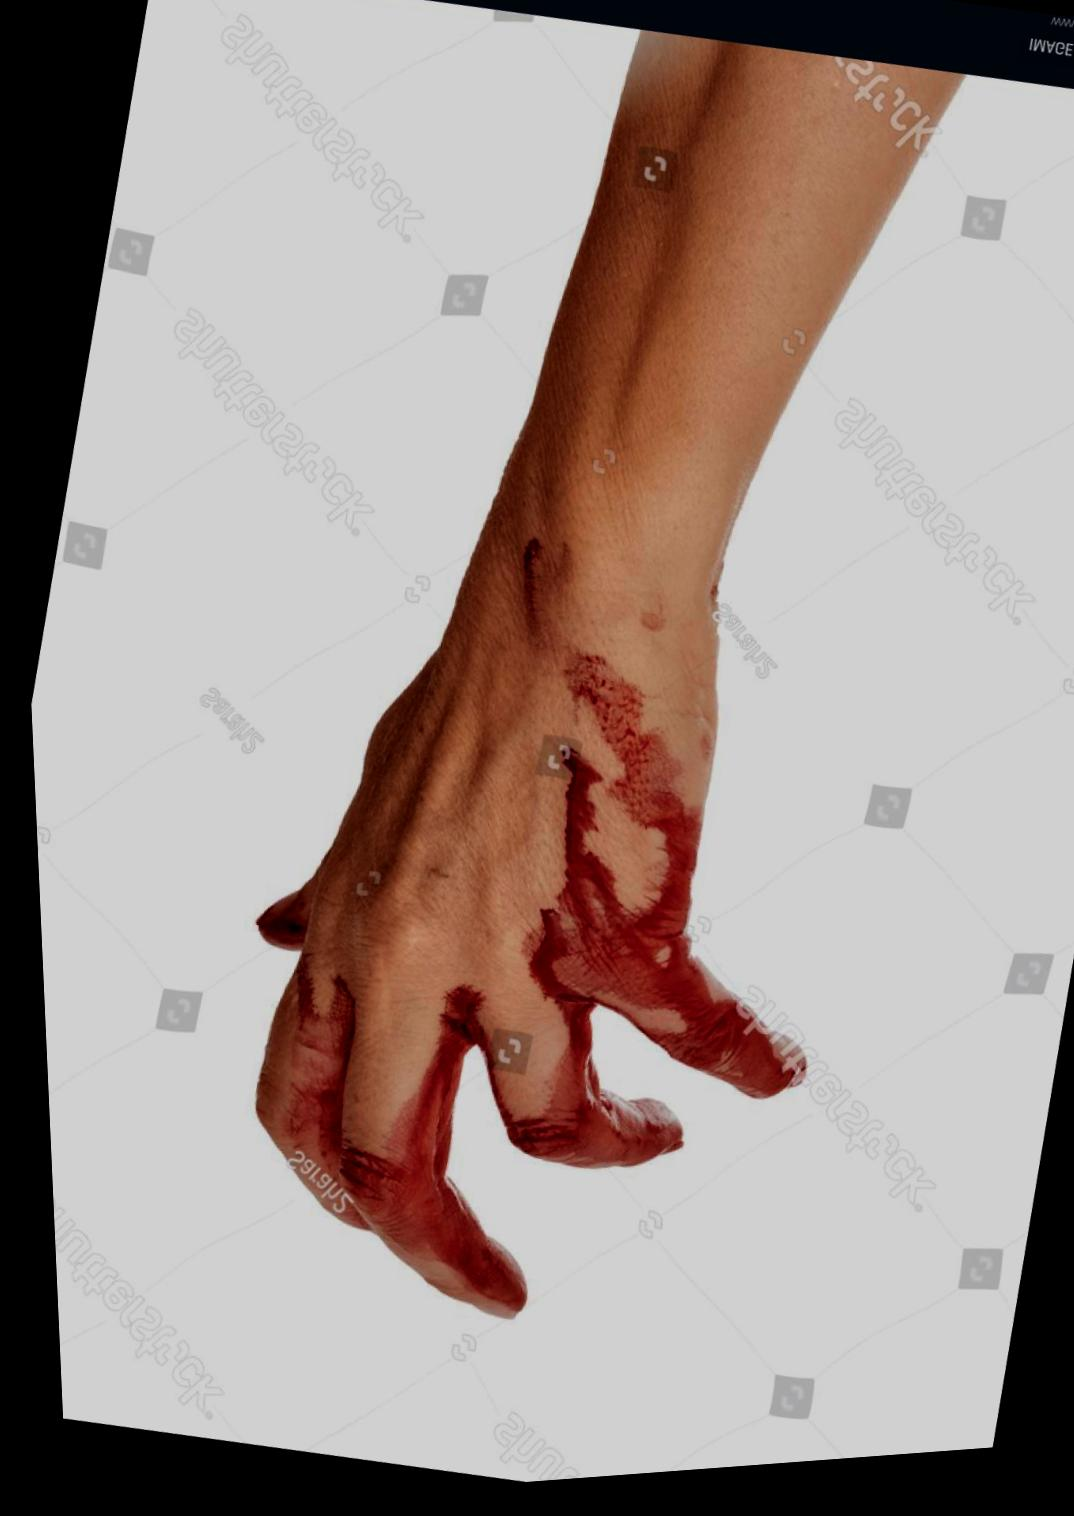Fire: (246, 664, 792, 1326)
